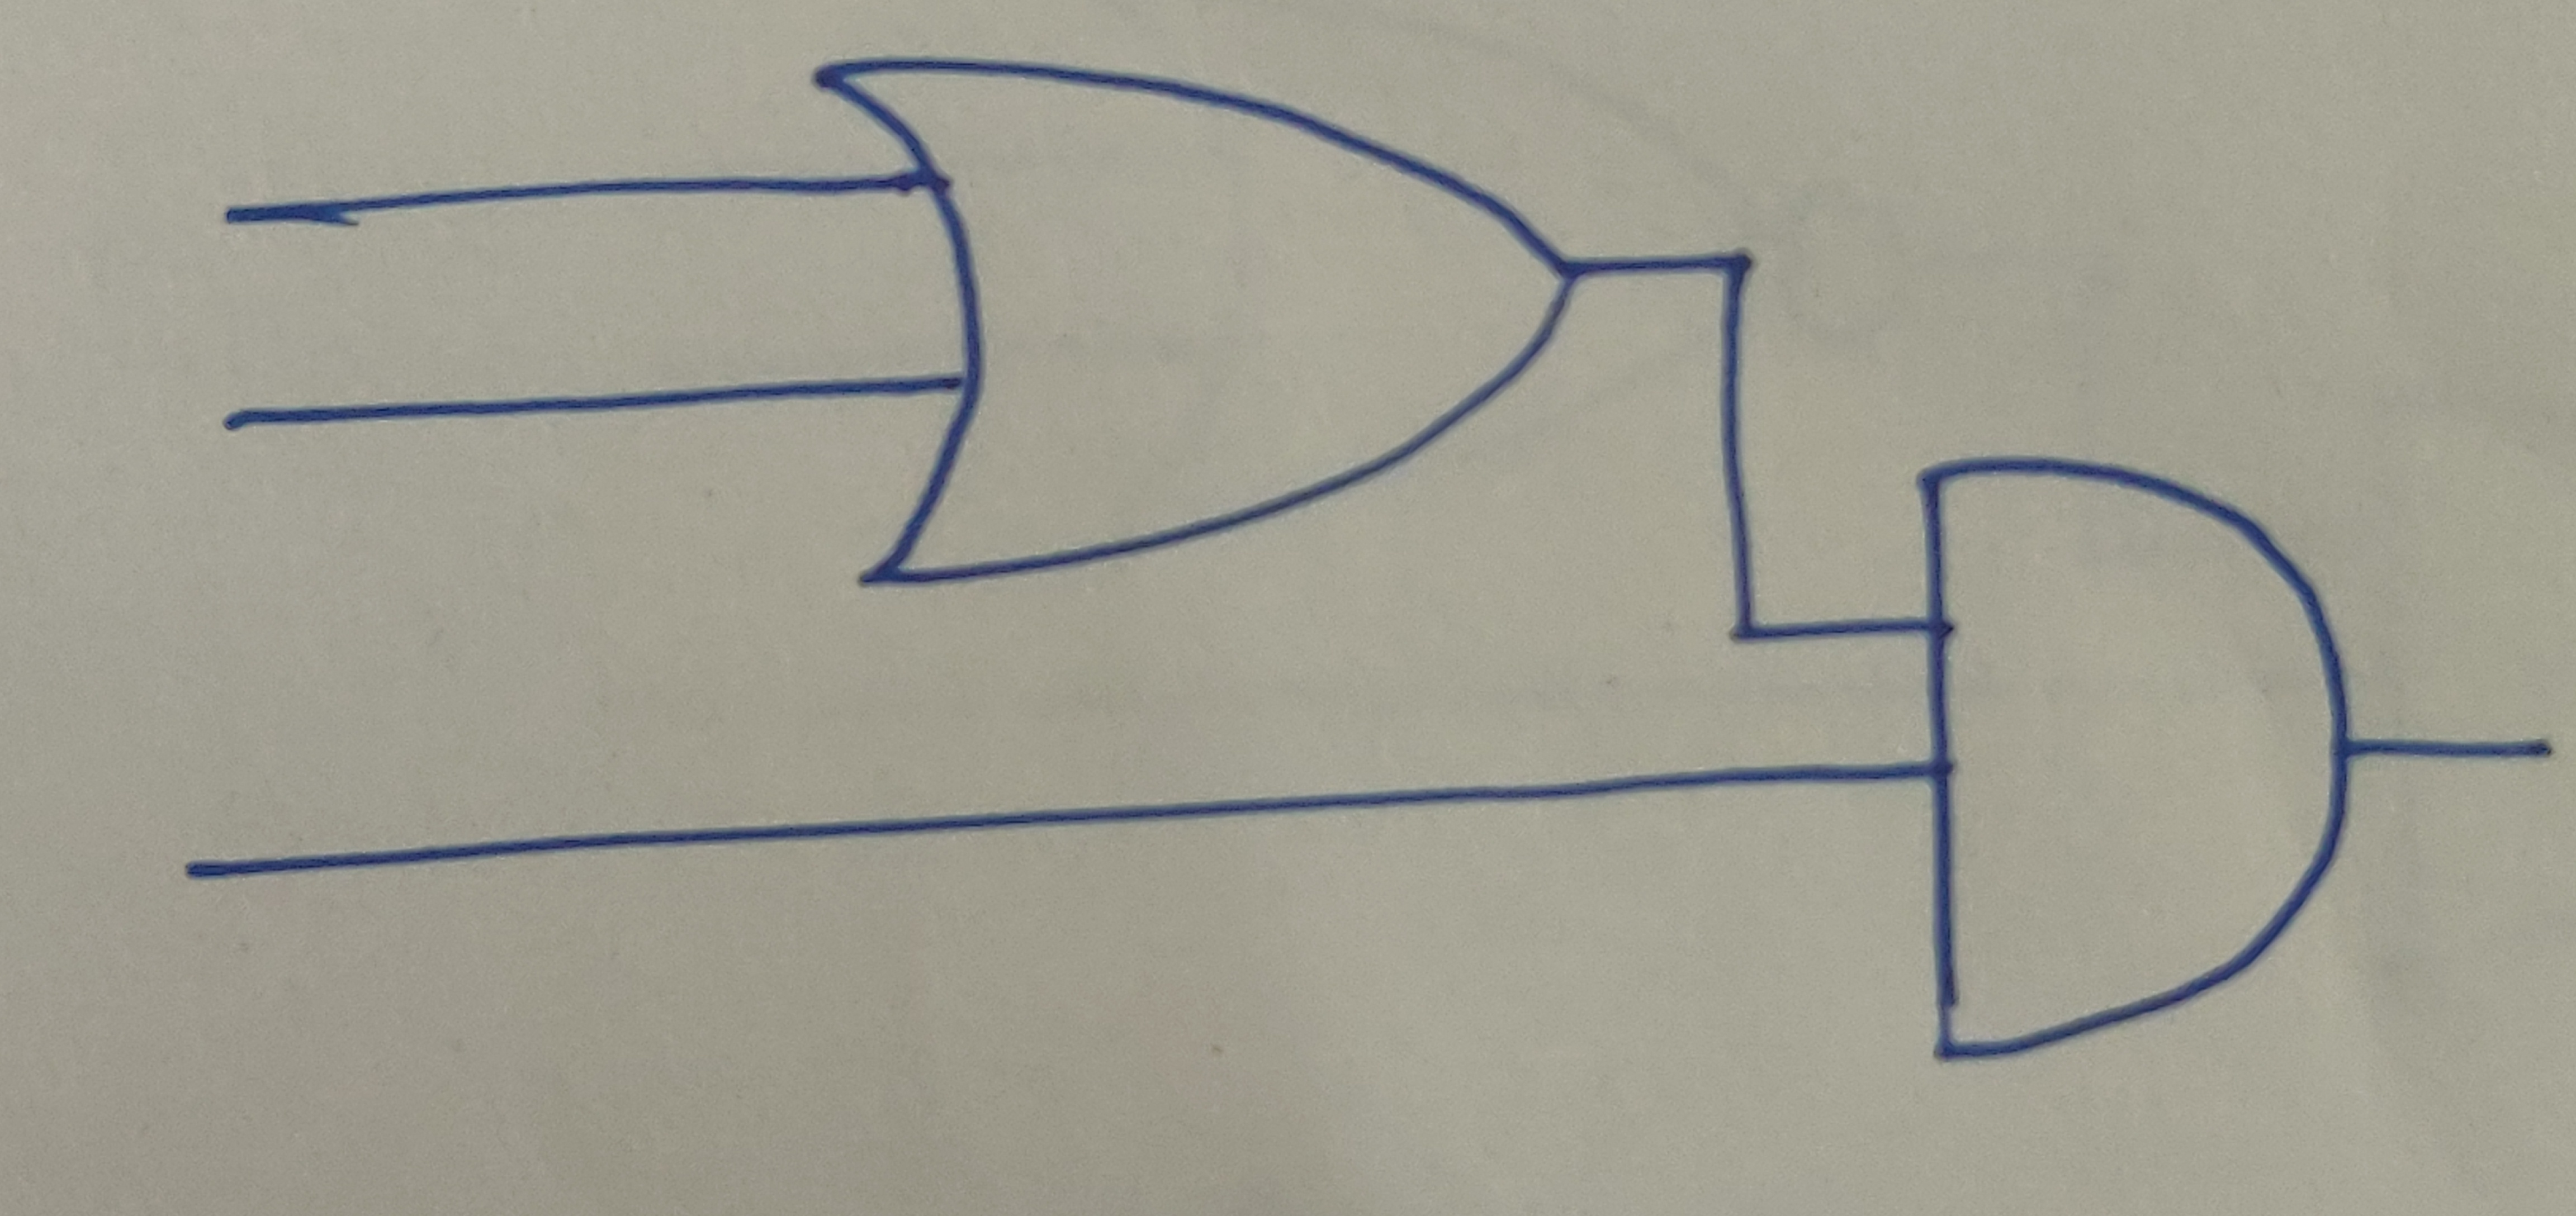and: (1916, 457, 2362, 1062)
or: (805, 53, 1577, 588)
